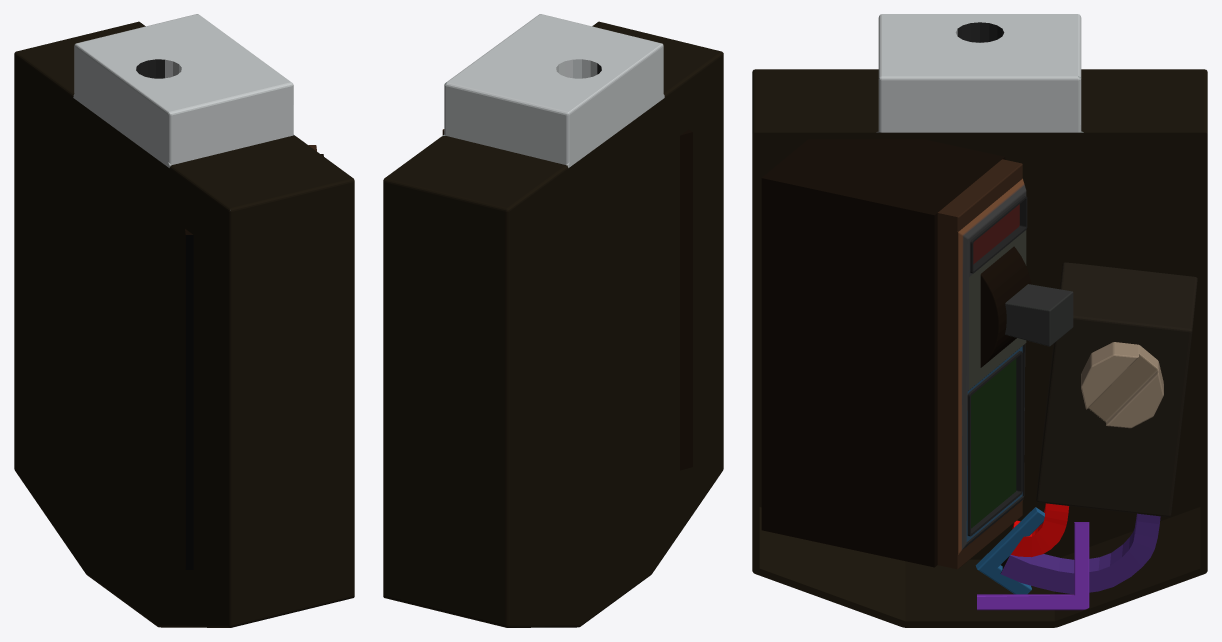
File: ItemKitCircuitBreakerSmart.fbx
3 views of the same model, side by side, from view 1: azimuth 30°, elevation 25°; view 2: azimuth 150°, elevation 25°; view 3: azimuth 270°, elevation 25° (orthographic). The views are drawn at different scales.
Parts seen in each view (by area): view 1: ItemKitCircuitBreakerSmart; view 2: ItemKitCircuitBreakerSmart; view 3: ItemKitCircuitBreakerSmart.
Part boxes in pixels (x1,y1,x2,y2): ItemKitCircuitBreakerSmart: (14, 14, 354, 627); ItemKitCircuitBreakerSmart: (383, 14, 723, 627); ItemKitCircuitBreakerSmart: (752, 14, 1207, 627).
Bounding box in the file's own units: 37.5 × 50 × 19.06.
